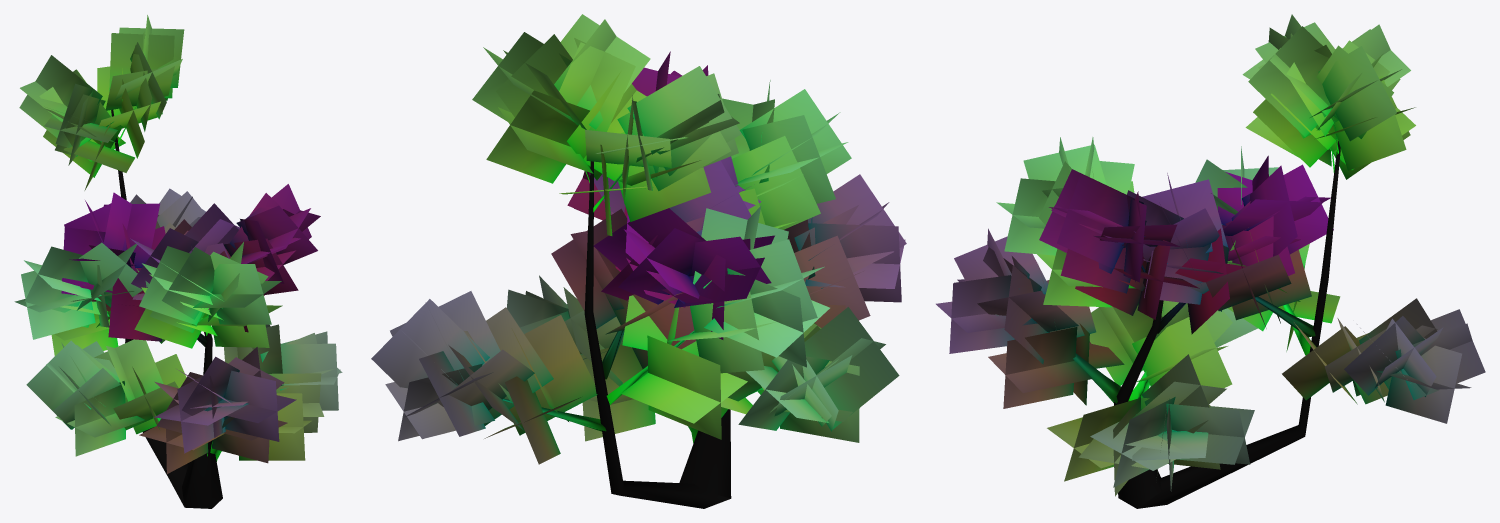
File: URP_P3_Tree_8_LOD_3.fbx
The picture shows the model from 3 angles, left to right: view 1: azimuth 30°, elevation 25°; view 2: azimuth 150°, elevation 25°; view 3: azimuth 270°, elevation 25°; orthographic projection. The views are drawn at different scales.
Visible parts, largest first — view 1: Tree_8_LOD_3; view 2: Tree_8_LOD_3; view 3: Tree_8_LOD_3.
Boxes of the visible parts, box(x1,y1,x2,y2) form: Tree_8_LOD_3: box(14, 15, 342, 508); Tree_8_LOD_3: box(371, 14, 906, 508); Tree_8_LOD_3: box(936, 14, 1485, 508).
Bounding box in the file's own units: 554 × 739 × 776.
